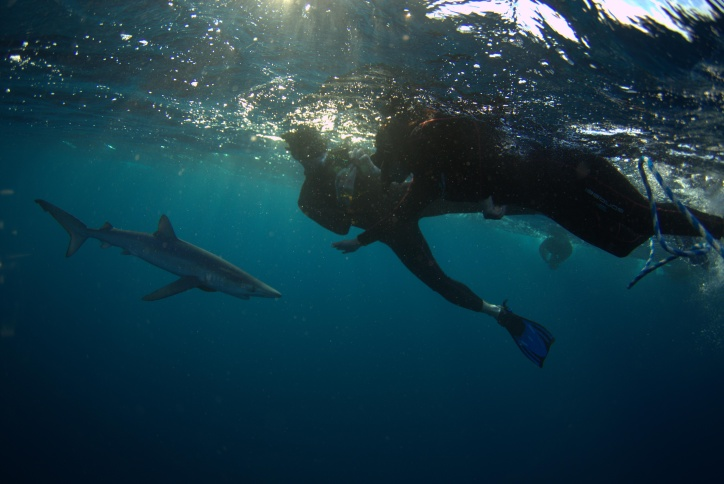Azul: (28, 184, 295, 330)
